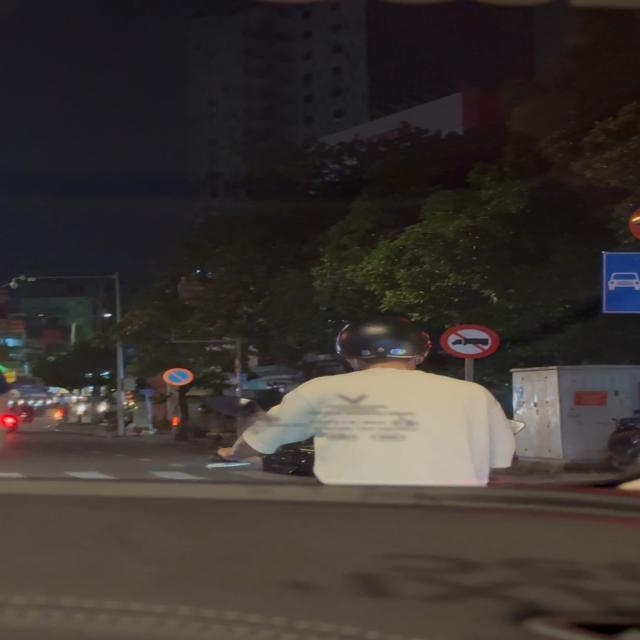Bien bao cam do xe: (161, 366, 197, 387)
Bien bao cam xe so-mi ro-mooc: (438, 322, 500, 359)
